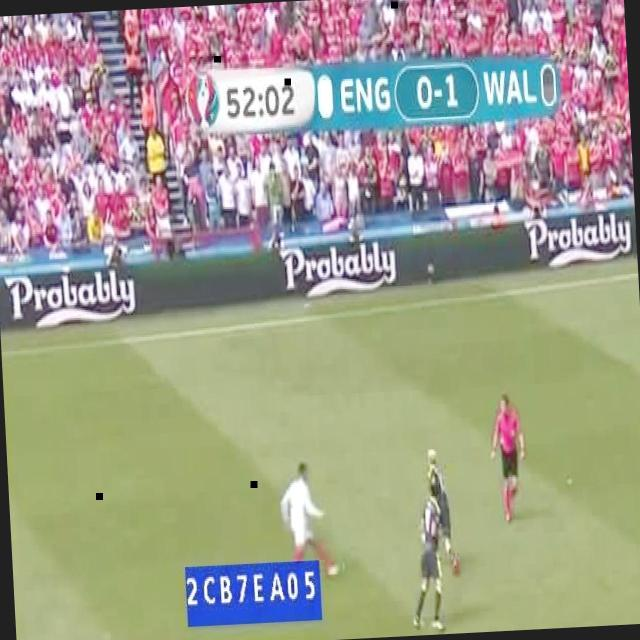player-white: (278, 462, 339, 584), (406, 483, 446, 633), (488, 393, 529, 521), (426, 445, 460, 573)
